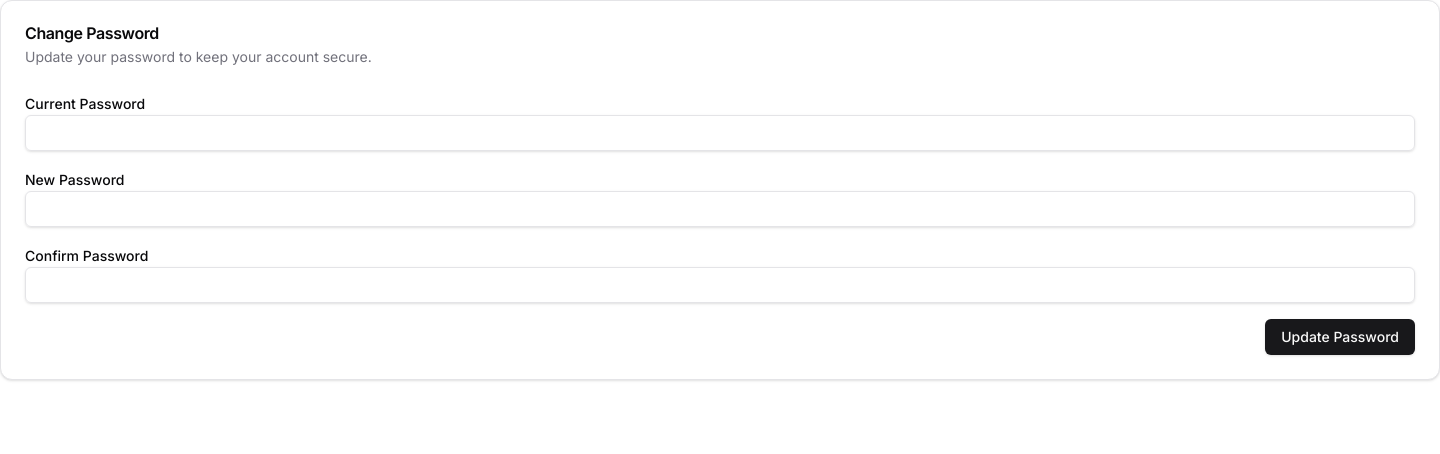
ChangePasswordForm › validates password matching
The image size is (1440, 454).
Type "password123" into the password field labelled "New Password" at [720, 209], box [25,191,1415,227]
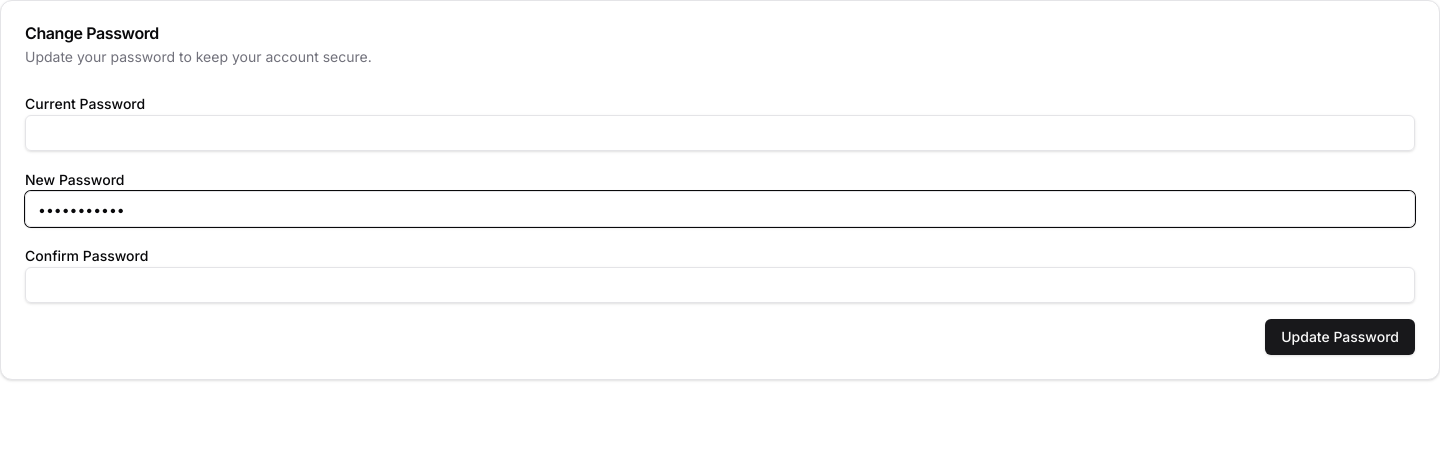
Type "password456" into the password field labelled "Confirm Password" at [720, 285], box [25,267,1415,303]
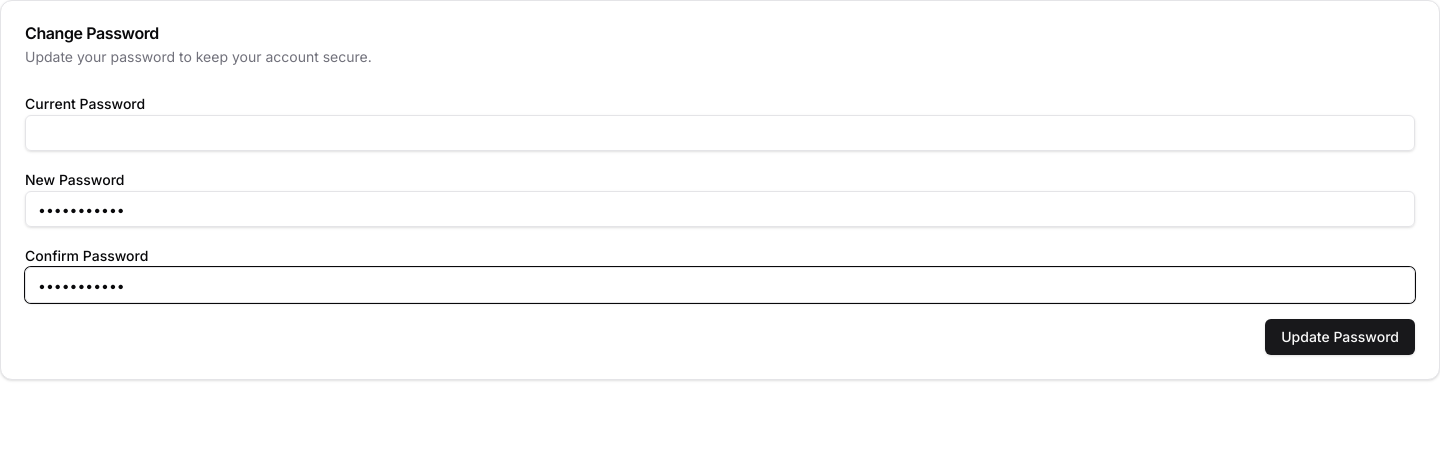
Click the button "Update Password" at [1340, 337], box [1265,319,1415,355]
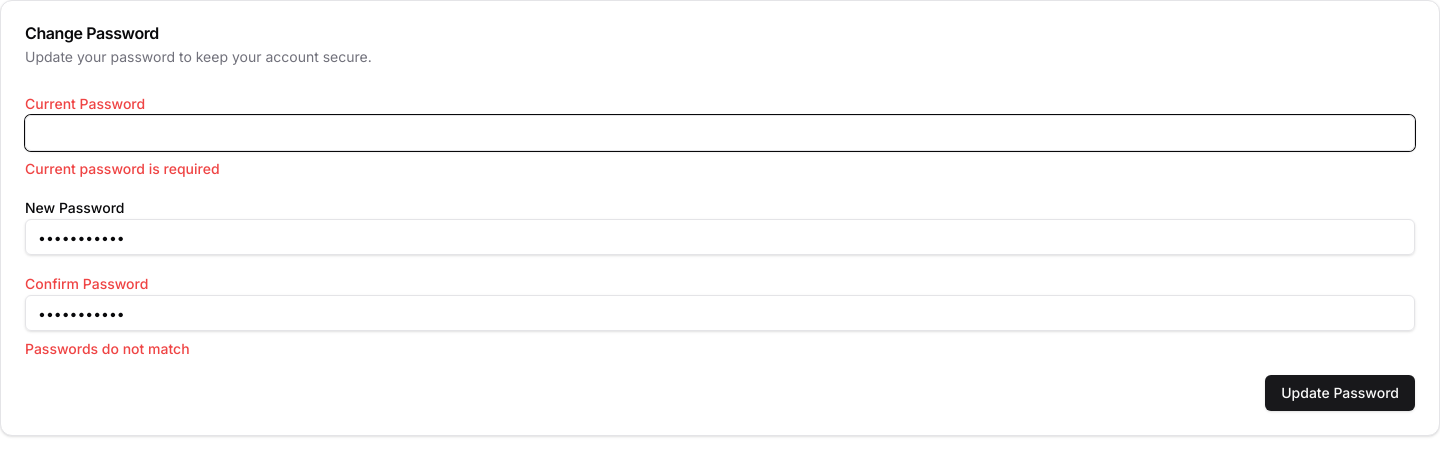
Now the text "Passwords do not match" is shown, box [25,340,190,357]
